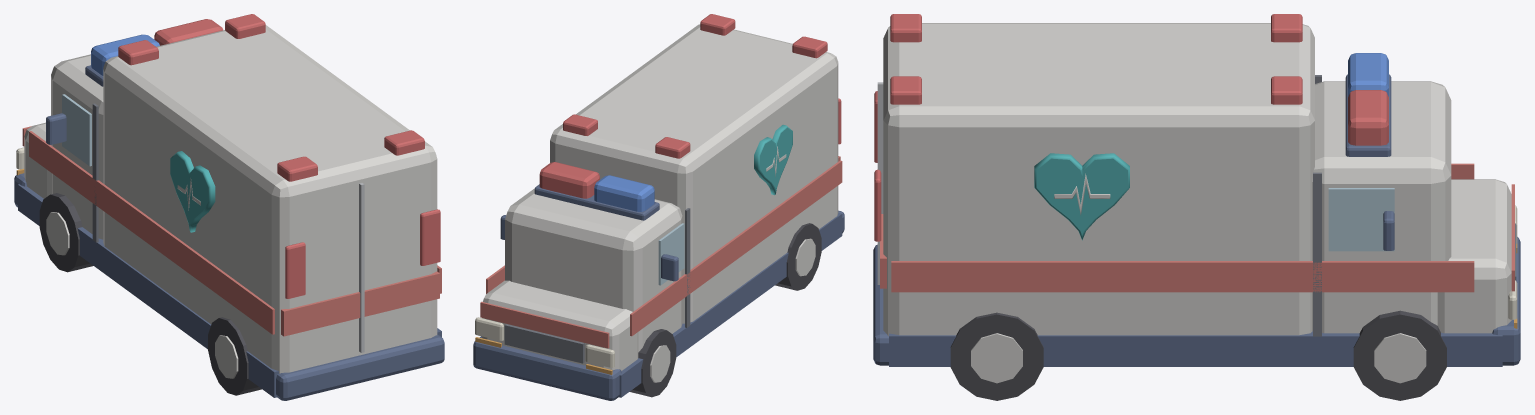
File: noturno-amb.glb
The picture shows the model from 3 angles, left to right: view 1: azimuth 30°, elevation 25°; view 2: azimuth 150°, elevation 25°; view 3: azimuth 270°, elevation 25°; orthographic projection. The views are drawn at different scales.
Bounding box in the file's own units: 2.48 × 2.9 × 5.7.
